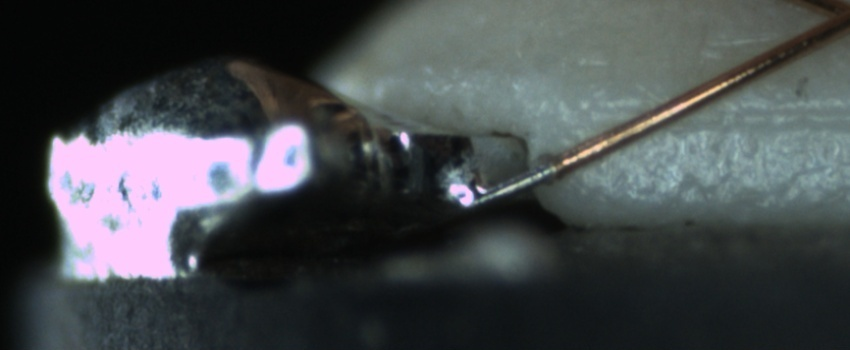CL: (804, 0, 850, 36)
DL: (609, 81, 845, 147)
